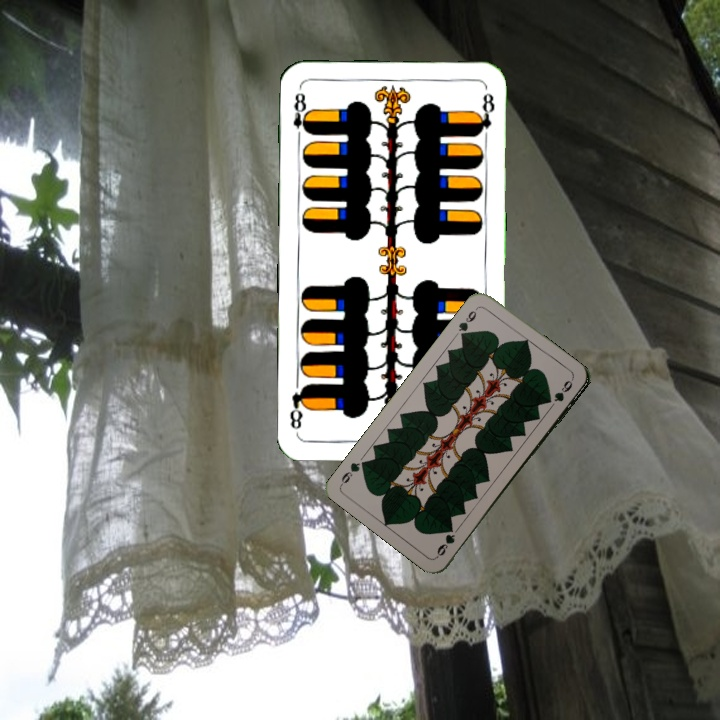E8: (289, 89, 312, 144)
G9: (454, 303, 481, 341), (432, 530, 458, 560)
